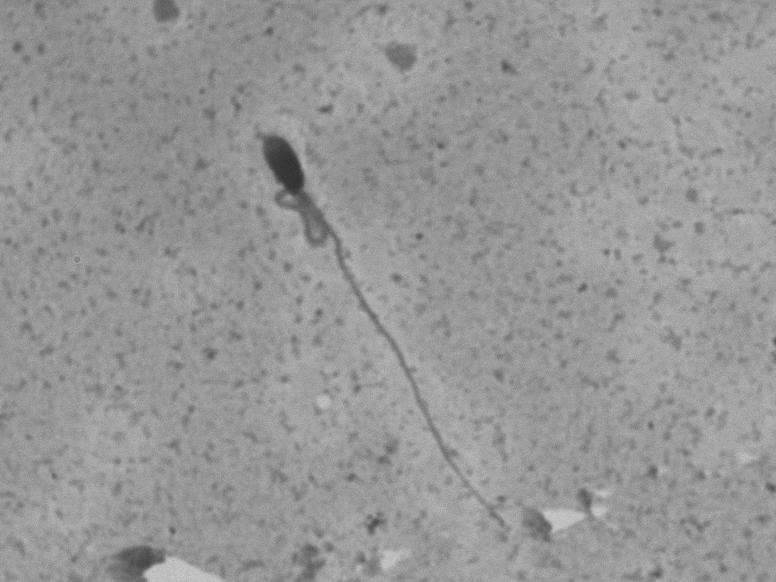Abnormal: (212, 88, 516, 530)
